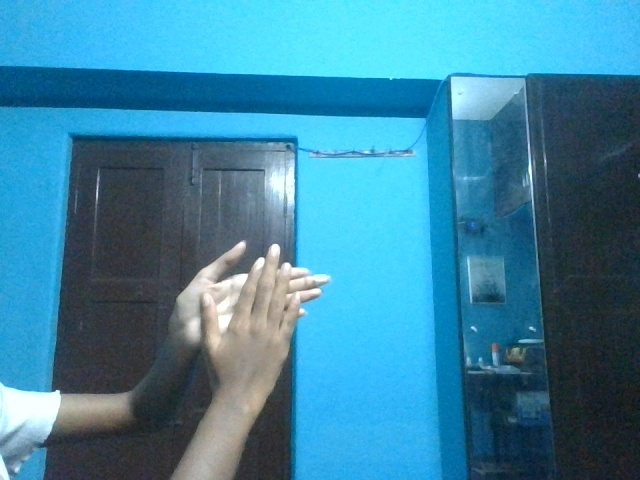H: (155, 239, 332, 395)
